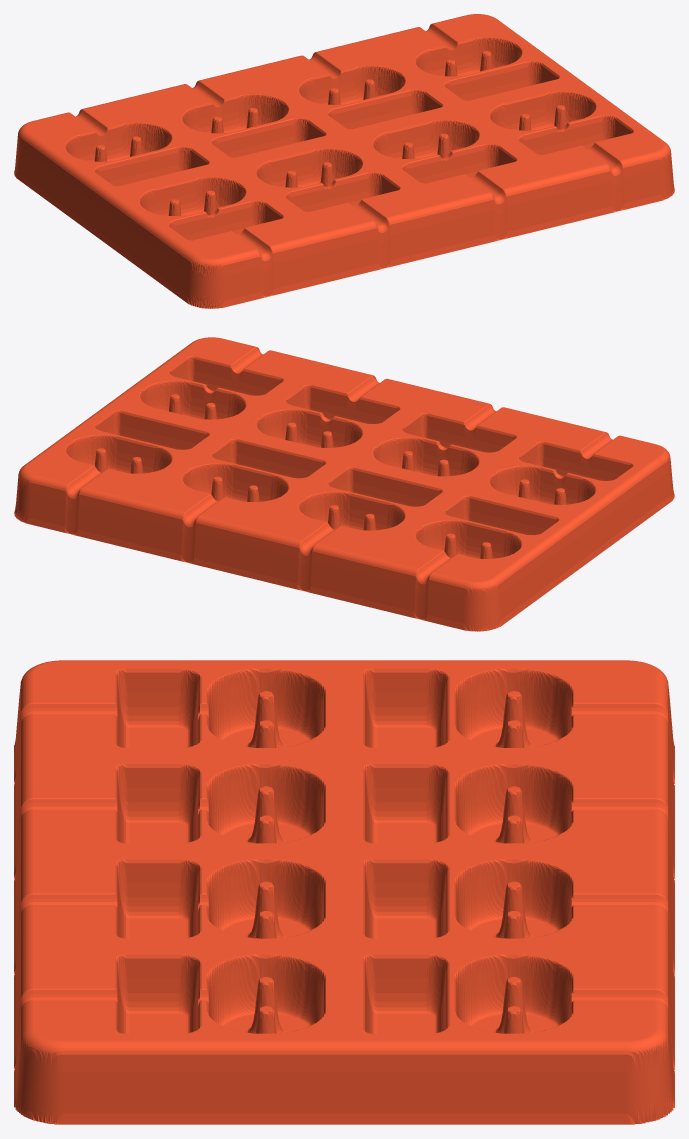
Rendered from mold.glb.
3 views of the same model, one above another, from view 1: azimuth 30°, elevation 25°; view 2: azimuth 150°, elevation 25°; view 3: azimuth 270°, elevation 25° (orthographic). The views are drawn at different scales.
Visible parts, largest first — view 1: geometry_0; view 2: geometry_0; view 3: geometry_0.
Part boxes in pixels (x1,y1,x2,y2): geometry_0: [14, 14, 674, 308]; geometry_0: [14, 337, 674, 631]; geometry_0: [14, 660, 674, 1124].
Bounding box in the file's own units: 0.1741 × 0.0155 × 0.1229.
